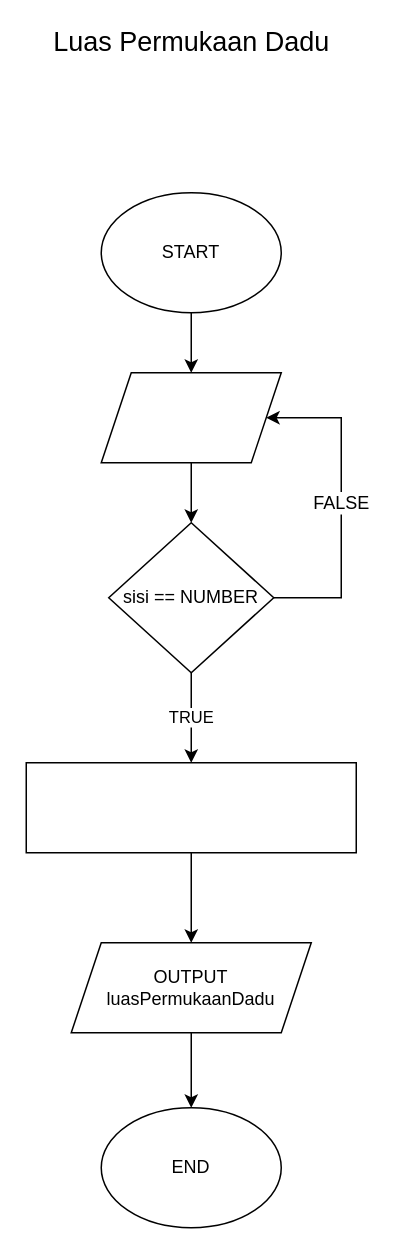
Some shapes in this 395 by 1254 pixel diagram are drawn without their labels. Each missing label, with the centre of its shape:
"INPUT sisi" goes at pixel 190 417.
"luasPermukaanDadu = 6*sisi*sisi" goes at pixel 190 807.
